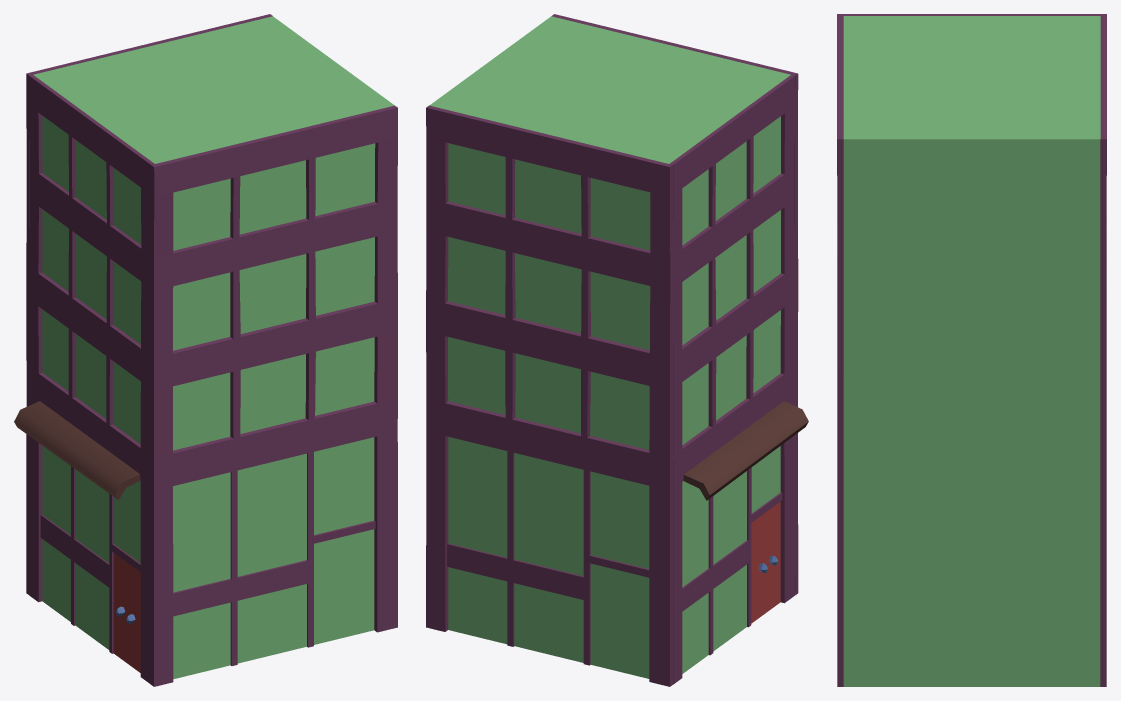
File: Building.fbx
3 views of the same model, side by side, from view 1: azimuth 30°, elevation 25°; view 2: azimuth 150°, elevation 25°; view 3: azimuth 270°, elevation 25° (orthographic). The views are drawn at different scales.
Visible parts, largest first — view 1: polySurface1241; view 2: polySurface1241; view 3: polySurface1241.
Part boxes in pixels (x1,y1,x2,y2): polySurface1241: [14, 14, 397, 686]; polySurface1241: [426, 14, 808, 686]; polySurface1241: [837, 14, 1106, 686].
Bounding box in the file's own units: 46.98 × 86.45 × 38.6.
